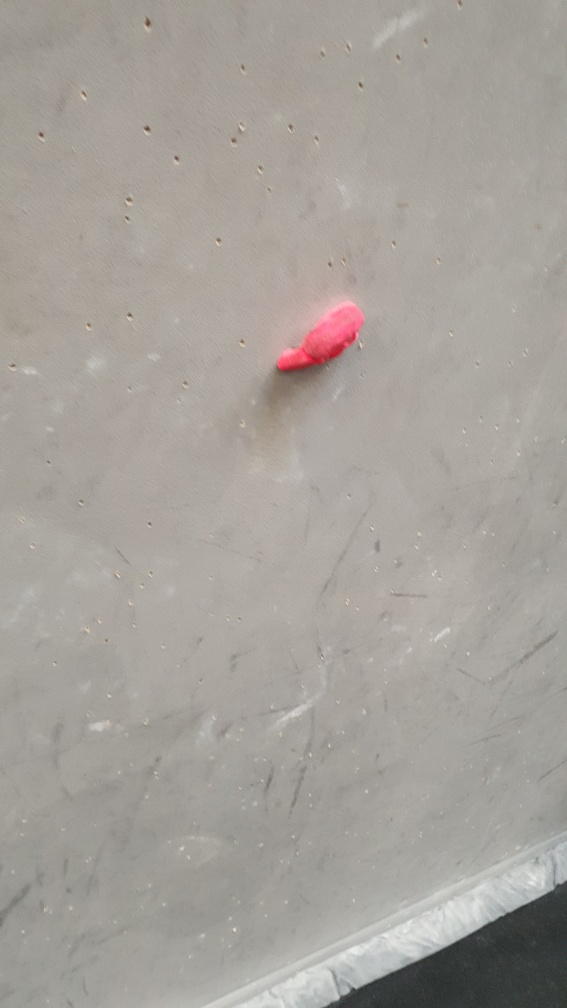Jug: (279, 302, 364, 377)
